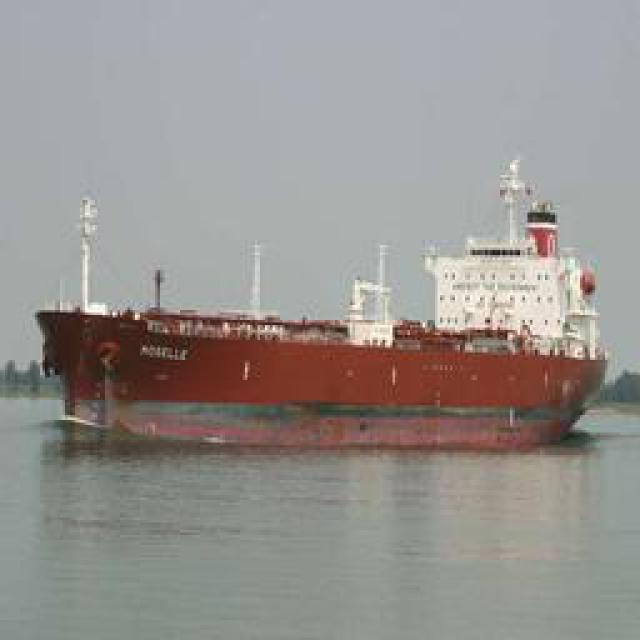Ship: (37, 209, 617, 452)
